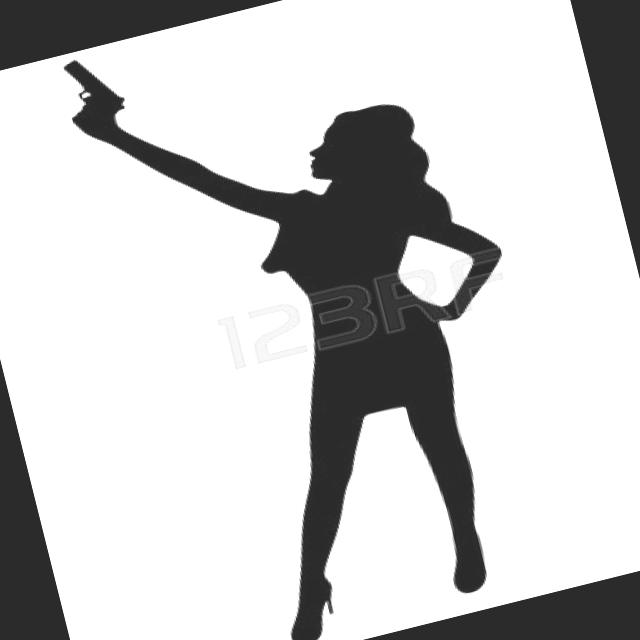handgun: (51, 48, 128, 128)
